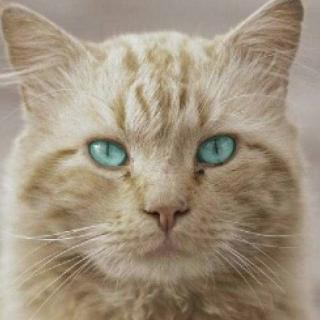cat: (5, 0, 303, 294)
nose: (139, 183, 192, 239)
